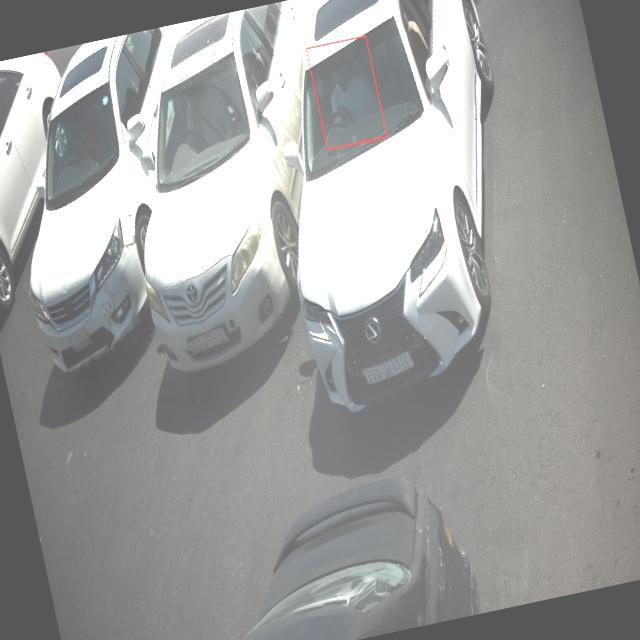windshield: (298, 15, 428, 184), (153, 51, 250, 192), (42, 80, 116, 213)
